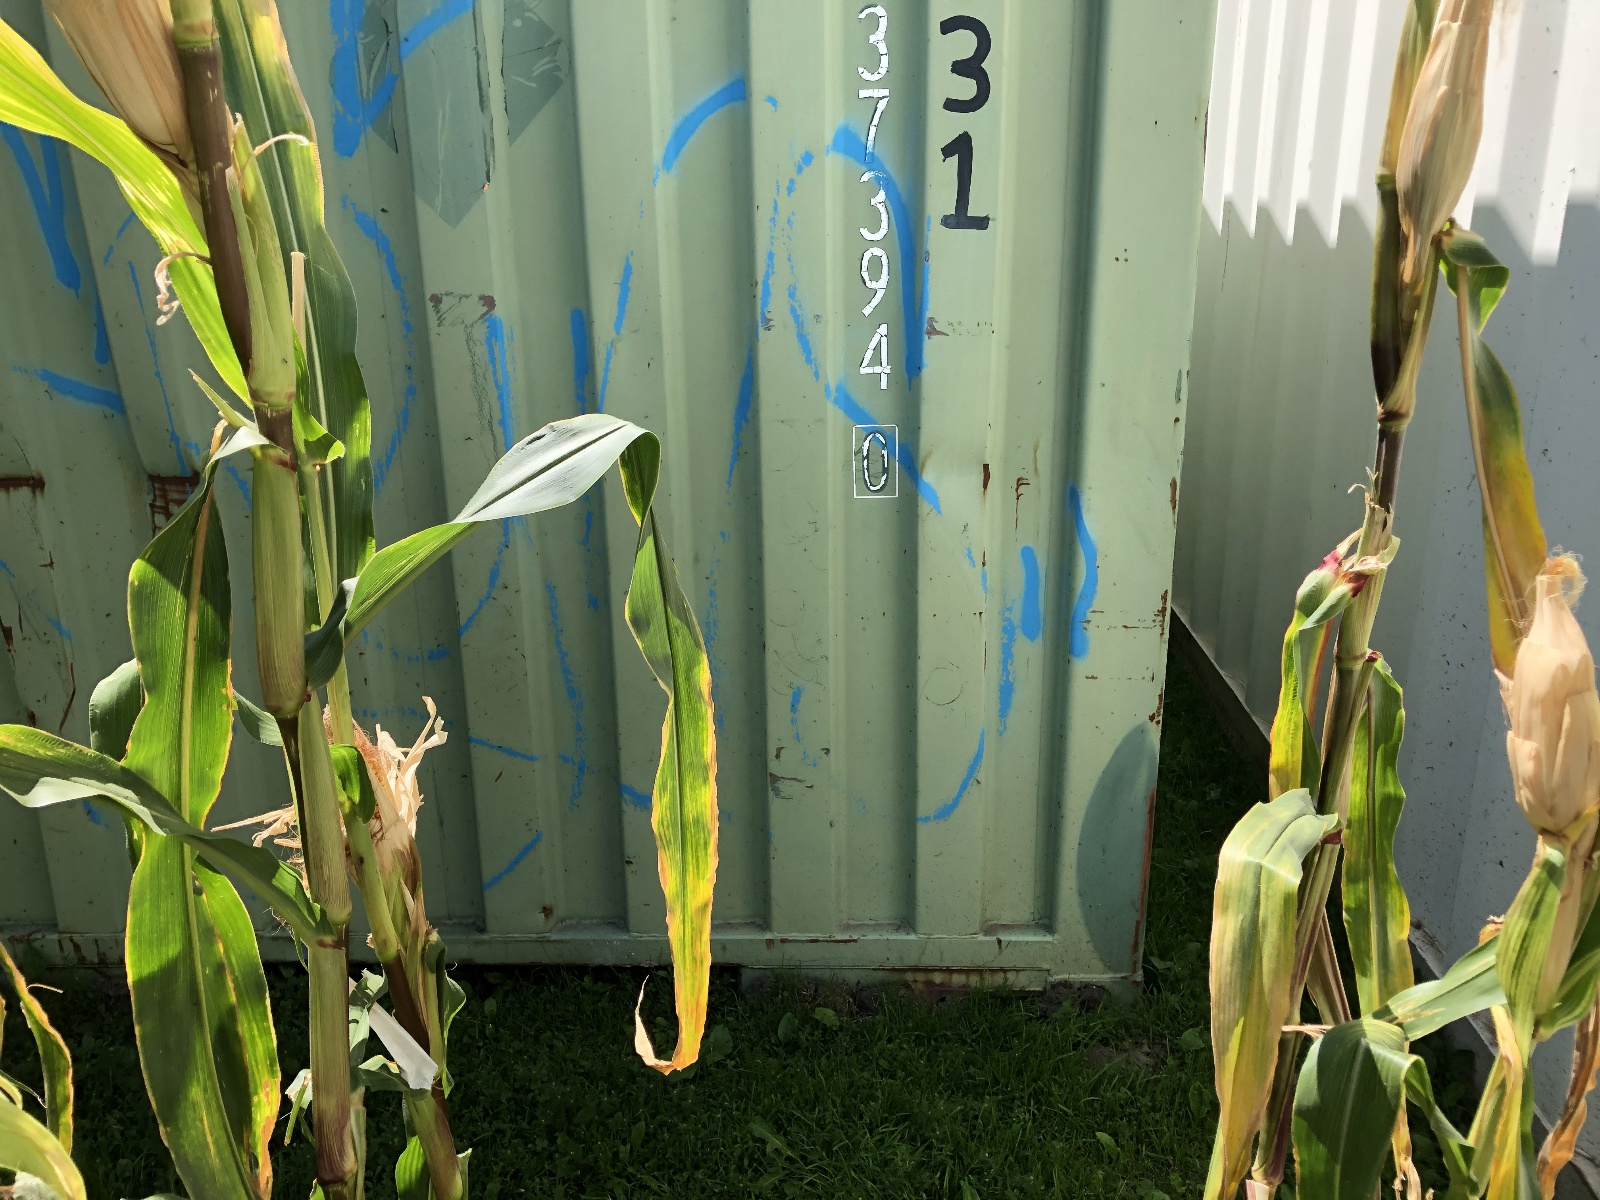ear: (1500, 545, 1595, 834)
